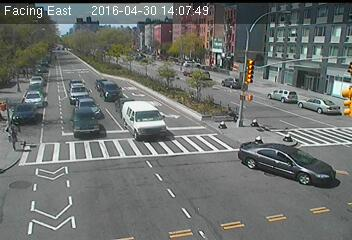neg: (216, 105, 239, 137), (54, 83, 69, 104), (82, 61, 91, 73), (12, 80, 20, 92)
pos: (4, 128, 22, 152), (21, 68, 29, 78)
